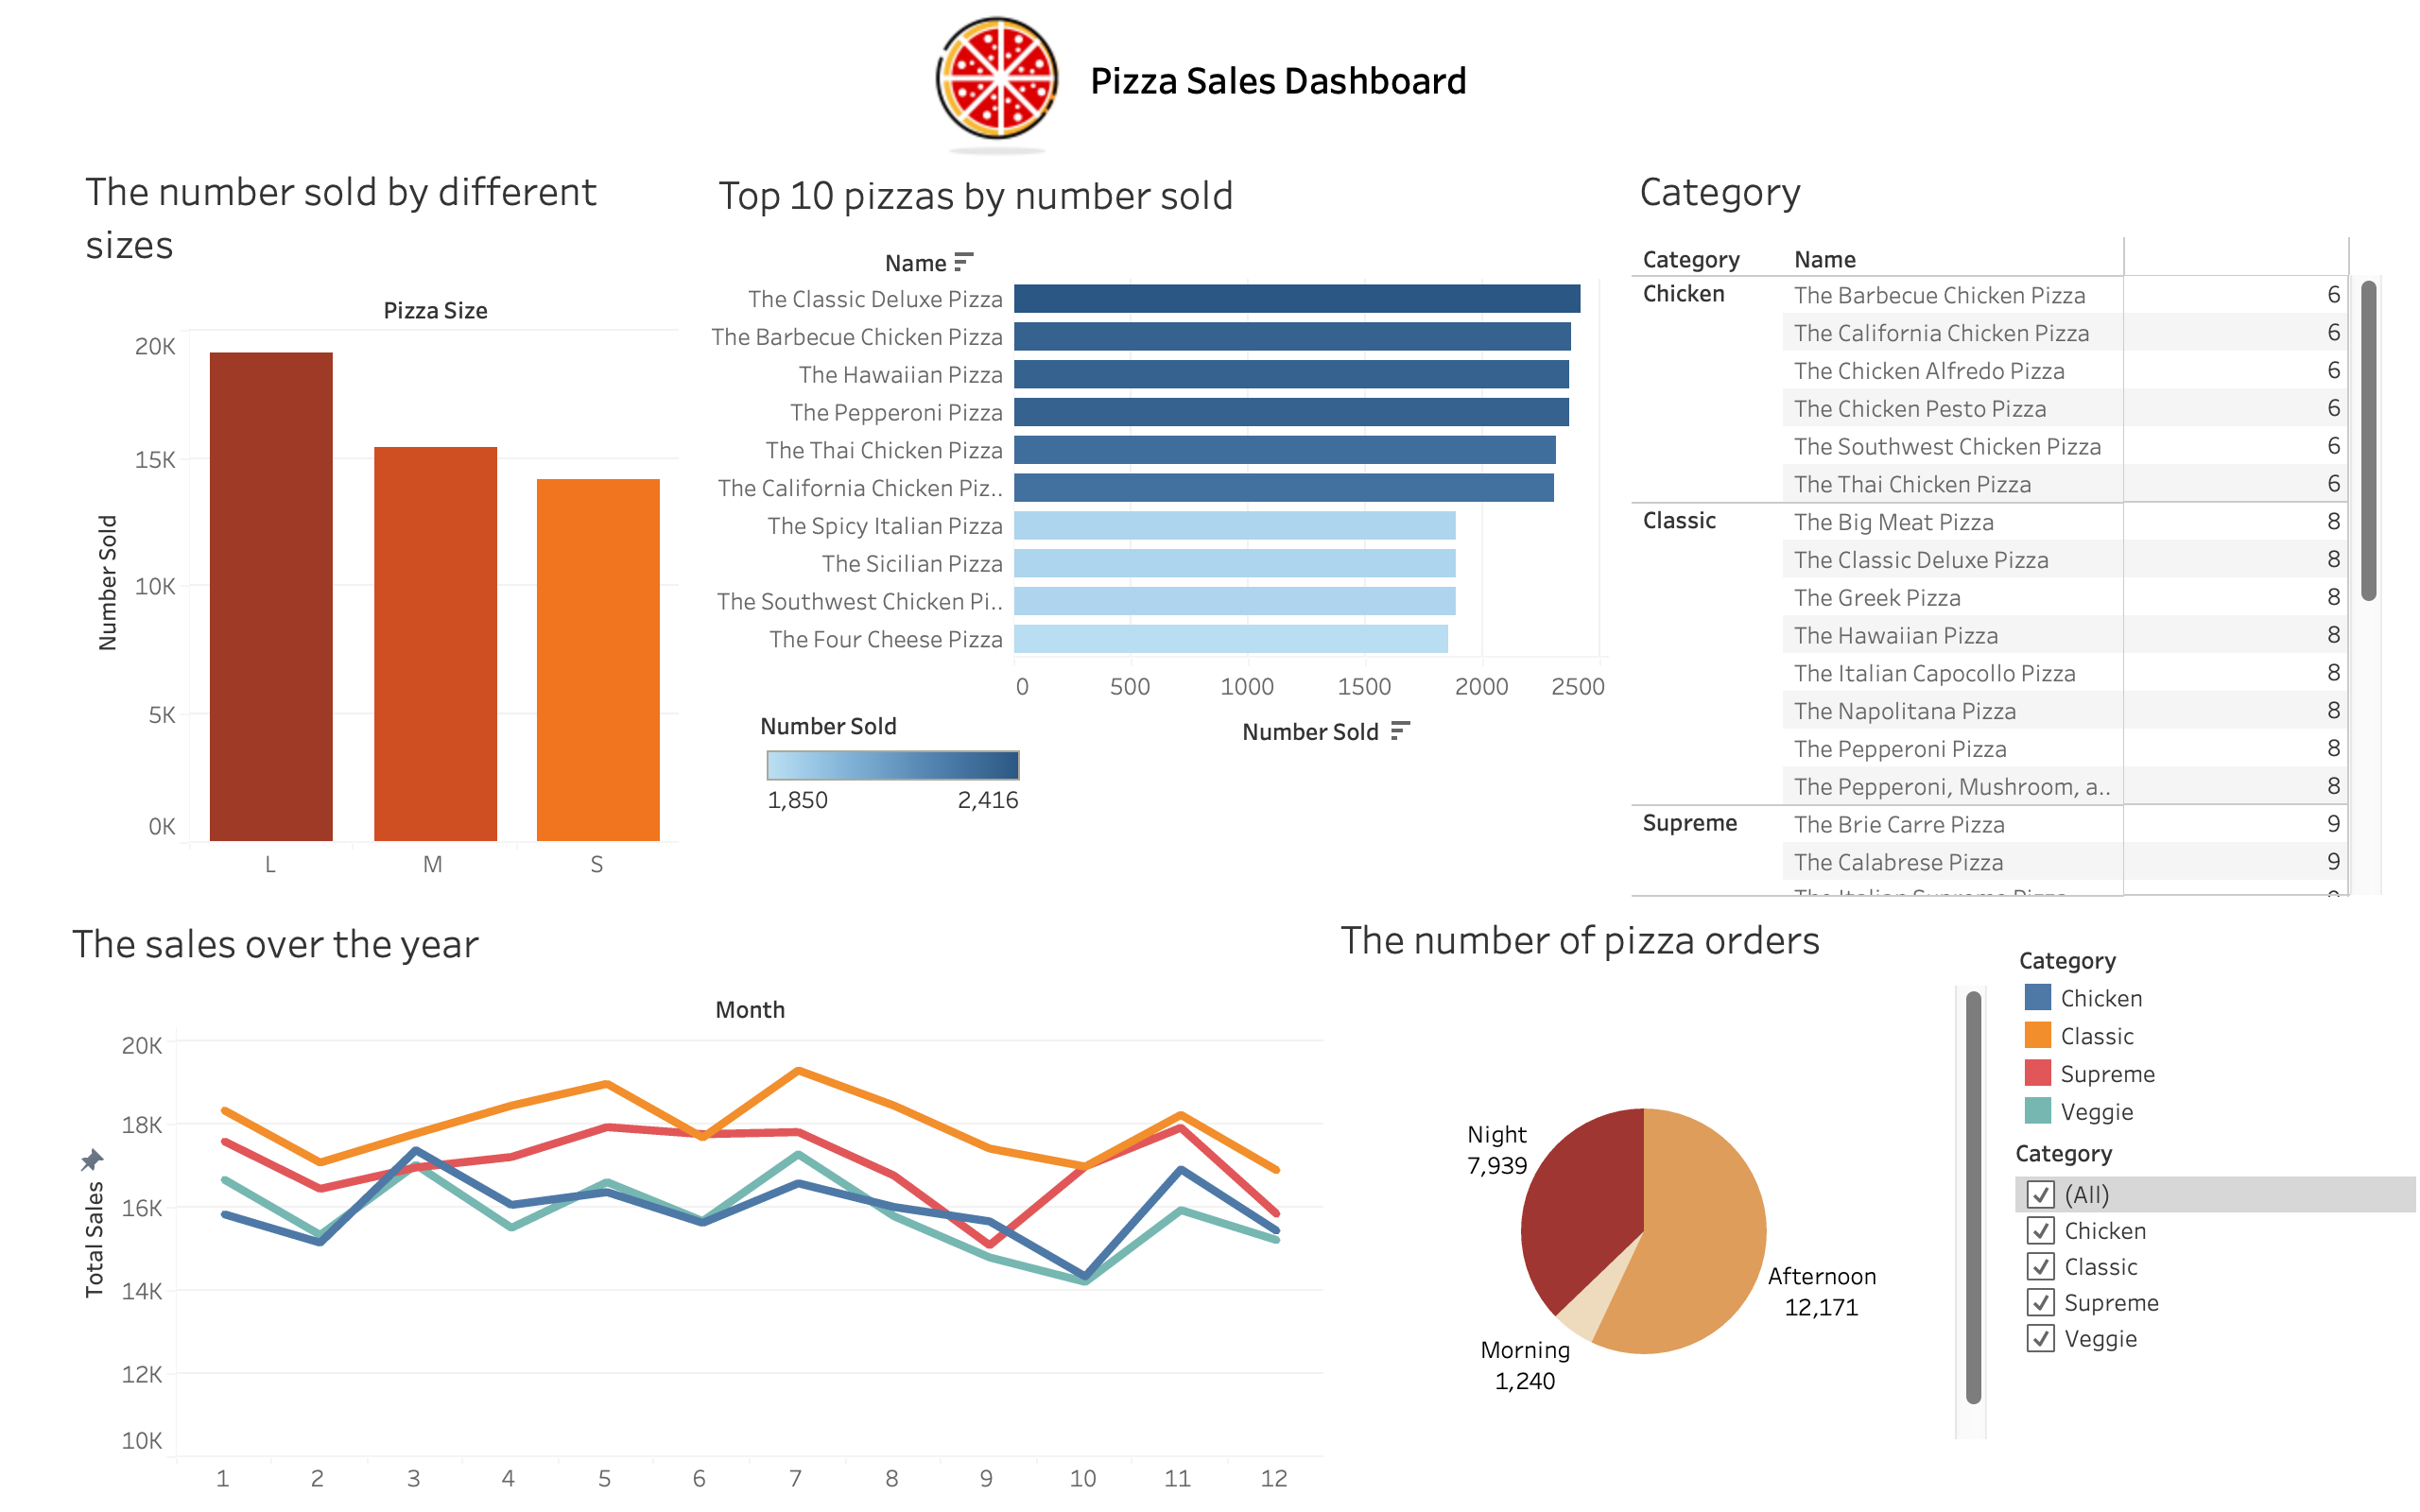

The page's visual inventory and layout, read from the dashboard file:
{"tool":"tableau","page":{"name":"Dashboard 1","canvas":[1000,1000],"units":"permille","ordinal":0},"visuals":[{"type":"image","param":"Image/Pizza-logo-vector-by-DEEMKA-STUDIO.jpg","box":[357.3,31.7,121.9,119.6]},{"type":"text","box":[437.6,68,155.9,38.7]},{"type":"worksheet","title":"The number sold by different sizes","mark":"Automatic","rows":["NumberSold"],"cols":["PizzaSize"],"box":[33.8,135.1,241.3,450.7]},{"type":"worksheet","title":"Category","mark":"Text","rows":["category","name"],"box":[656.4,135.1,313.6,459.7]},{"type":"worksheet","title":"Top 10 pizzas by number sold","mark":"Automatic","rows":["Name"],"cols":["NumberSold"],"box":[287.7,137.2,359.6,466.6]},{"type":"legend","title":"Top 10 pizzas by number sold","param":"[federated.05cym3r022m4441cqu67v18q9llm].[sum:NumberSold:qk]","box":[300.5,536.9,107.5,98.5]},{"type":"worksheet","title":"The number of pizza orders","mark":"Pie","box":[536.5,598.7,273.6,332.5]},{"type":"worksheet","title":"The sales over the year","mark":"Line","rows":["Total_Sales"],"cols":["Month"],"box":[28.8,601.3,504.2,364.9]},{"type":"legend","title":"The sales over the year","param":"[federated.0hnilti15dgn3j12rf07206bwleu].[none:category:nk]","box":[812.3,624.9,140.1,141.8]},{"type":"filter","title":"The sales over the year","param":"[federated.0hnilti15dgn3j12rf07206bwleu].[none:category:nk]","box":[813,769.1,160.5,148.9]}]}

Visuals, with their boxes on the dashboard's canvas, which has no fixed pixel size, in thousandths of its width and height (x1, y1, x2, y2). These are canvas units, not pixel positions in the 2420x1512 screenshot, which may show the page scaled, cropped or inside an application window:
image: [x1=357, y1=32, x2=479, y2=151]
text: [x1=438, y1=68, x2=594, y2=107]
"The number sold by different sizes" worksheet: [x1=34, y1=135, x2=275, y2=586]
"Category" worksheet (Text marks): [x1=656, y1=135, x2=970, y2=595]
"Top 10 pizzas by number sold" worksheet: [x1=288, y1=137, x2=647, y2=604]
"Top 10 pizzas by number sold" legend: [x1=300, y1=537, x2=408, y2=635]
"The number of pizza orders" worksheet (Pie marks): [x1=536, y1=599, x2=810, y2=931]
"The sales over the year" worksheet (Line marks): [x1=29, y1=601, x2=533, y2=966]
"The sales over the year" legend: [x1=812, y1=625, x2=952, y2=767]
"The sales over the year" filter: [x1=813, y1=769, x2=974, y2=918]
